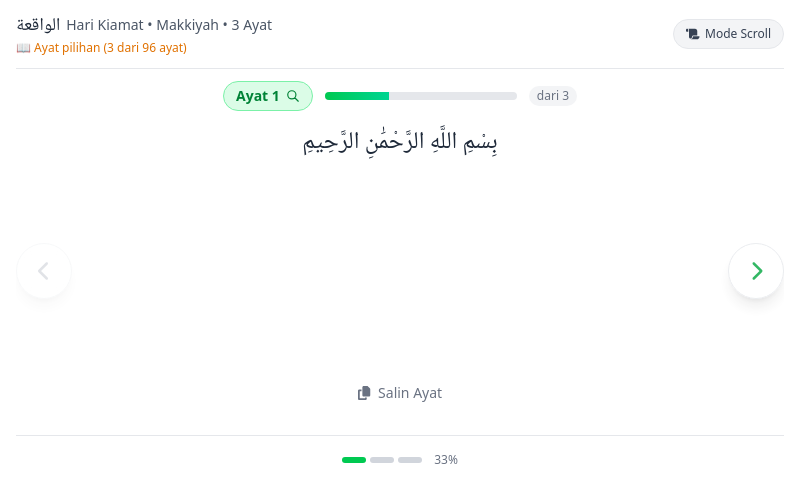
it: QuranReader › Navigation › should navigate to next ayat using desktop button
What coordinates should you click on to do the following:
click the button named "Next ayat"
I would click on:
 (756, 271)
Its box is [728, 243, 784, 299].
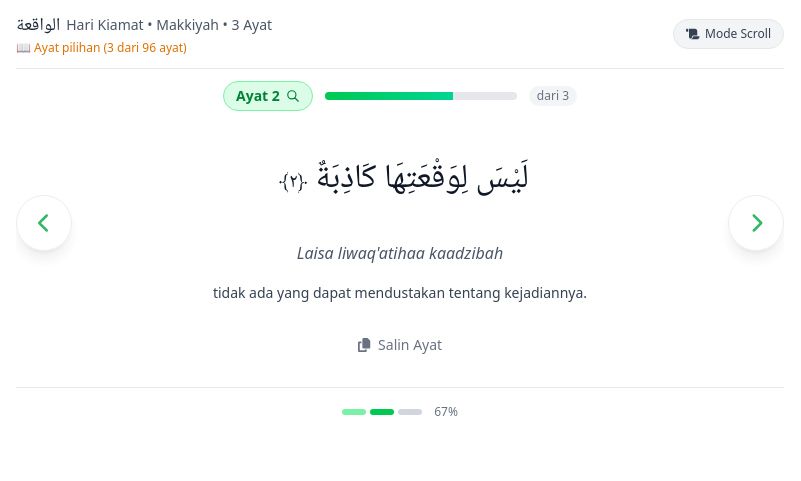
Expected: the text "لَيْسَ لِوَقْعَتِهَا كَاذِبَةٌ ﴿٢﴾" is shown, [279, 151, 529, 208]
